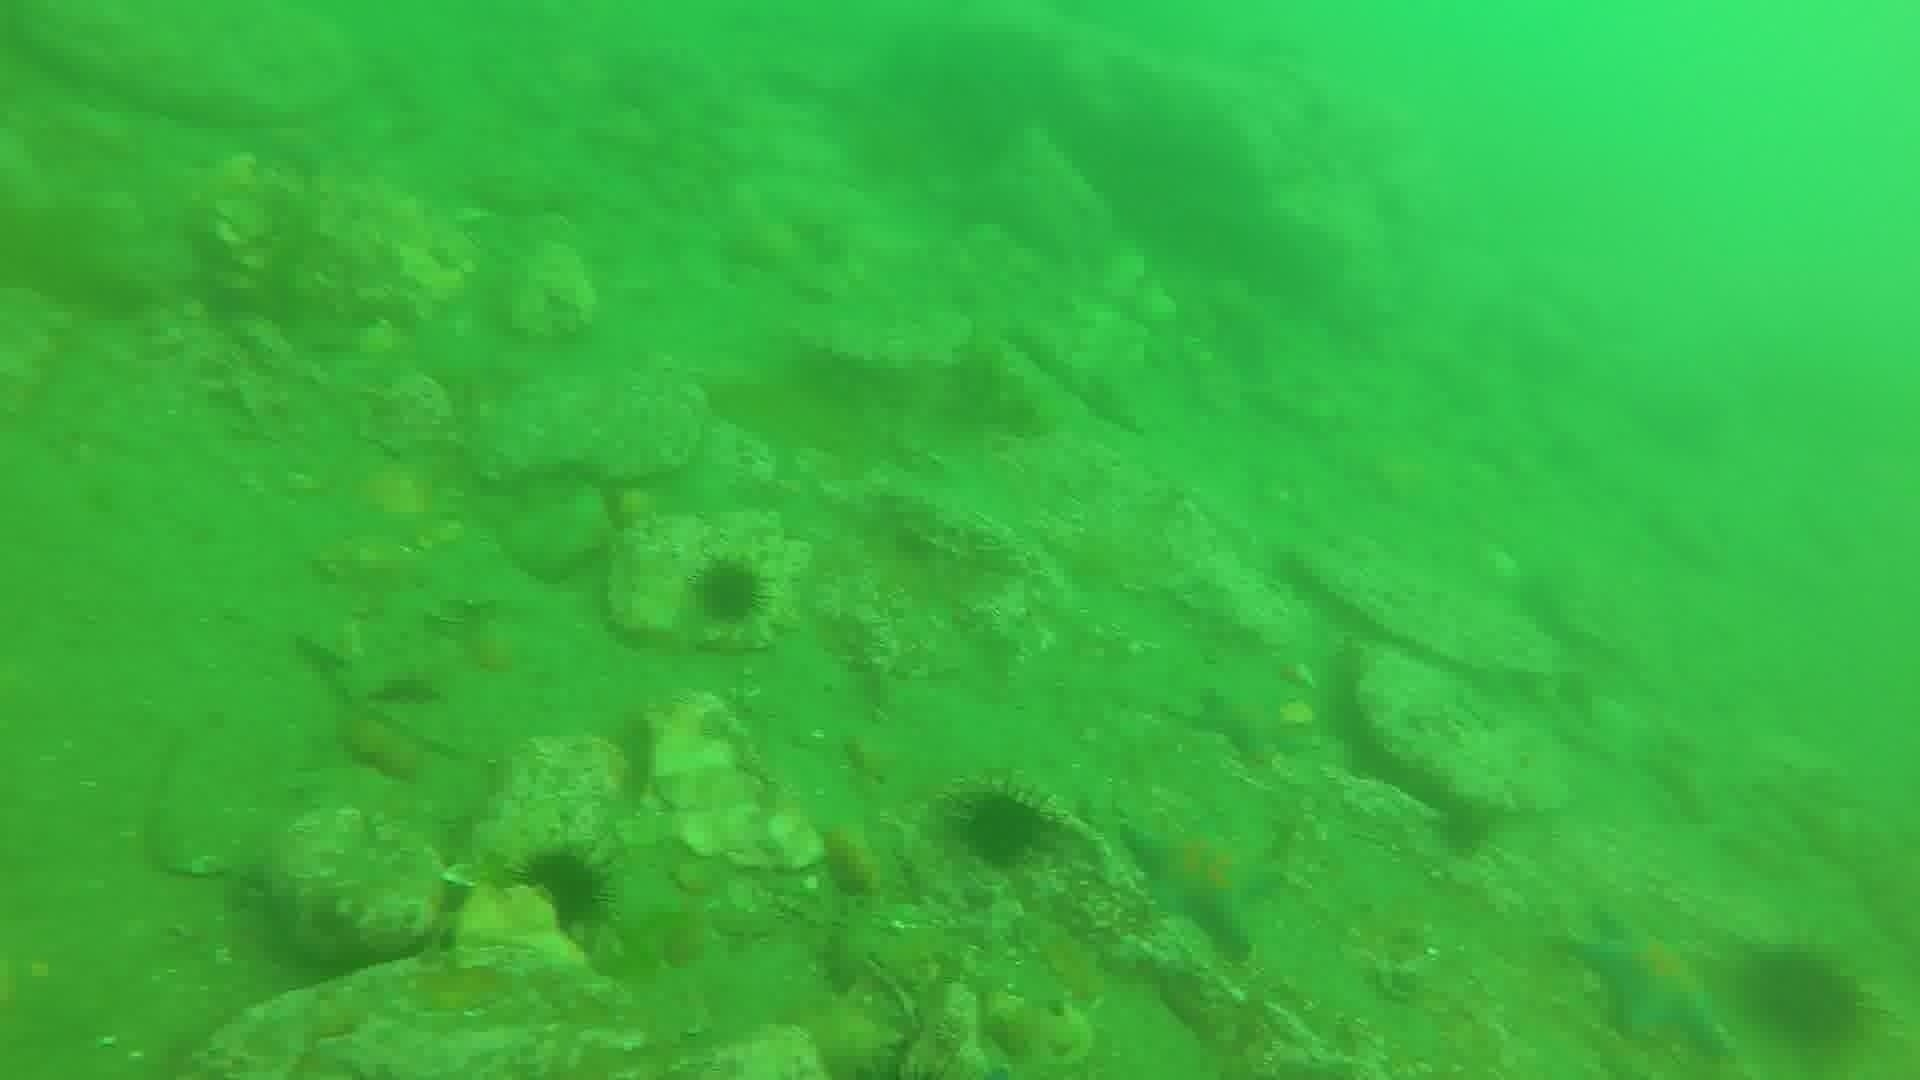echinus: (1739, 940, 1873, 1056), (948, 782, 1058, 874), (514, 843, 616, 938), (686, 554, 773, 632), (1429, 796, 1498, 862)
starfish: (1564, 907, 1735, 1060), (1121, 808, 1284, 957), (1189, 674, 1321, 767)
